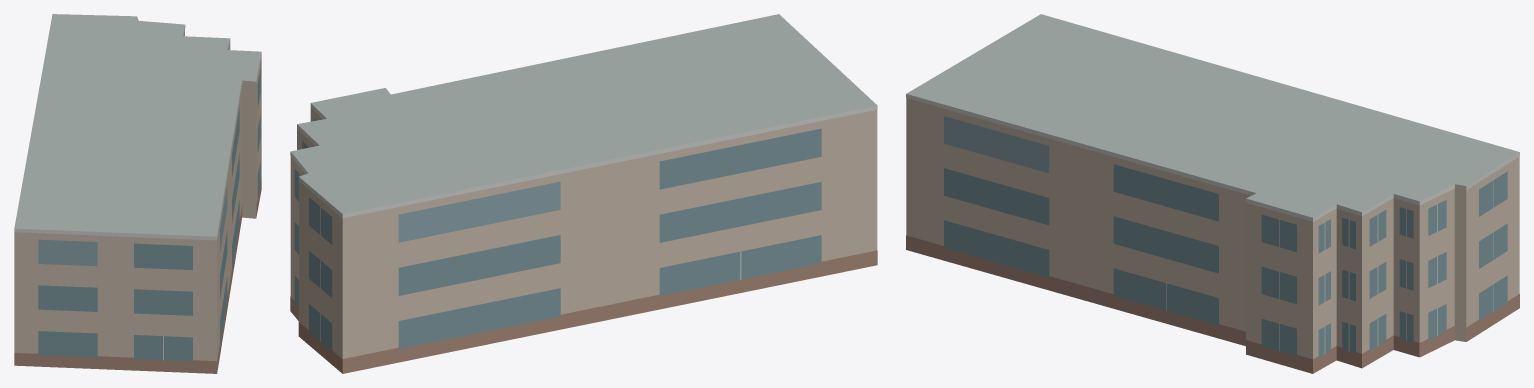
File: survey-upis-32524243.glb
3 renders of one model, left to right at view 1: azimuth 30°, elevation 25°; view 2: azimuth 150°, elevation 25°; view 3: azimuth 270°, elevation 25°, orthographic. The views are drawn at different scales.
Parts seen in each view (by area): view 1: survey-upis-32524243.tmp; view 2: survey-upis-32524243.tmp; view 3: survey-upis-32524243.tmp.
Part boxes in pixels (x1=…): survey-upis-32524243.tmp: x1=14, y1=14, x2=261, y2=373; survey-upis-32524243.tmp: x1=290, y1=14, x2=877, y2=373; survey-upis-32524243.tmp: x1=906, y1=14, x2=1519, y2=373.
Bounding box in the file's own units: 25.63 × 9.15 × 32.61.
